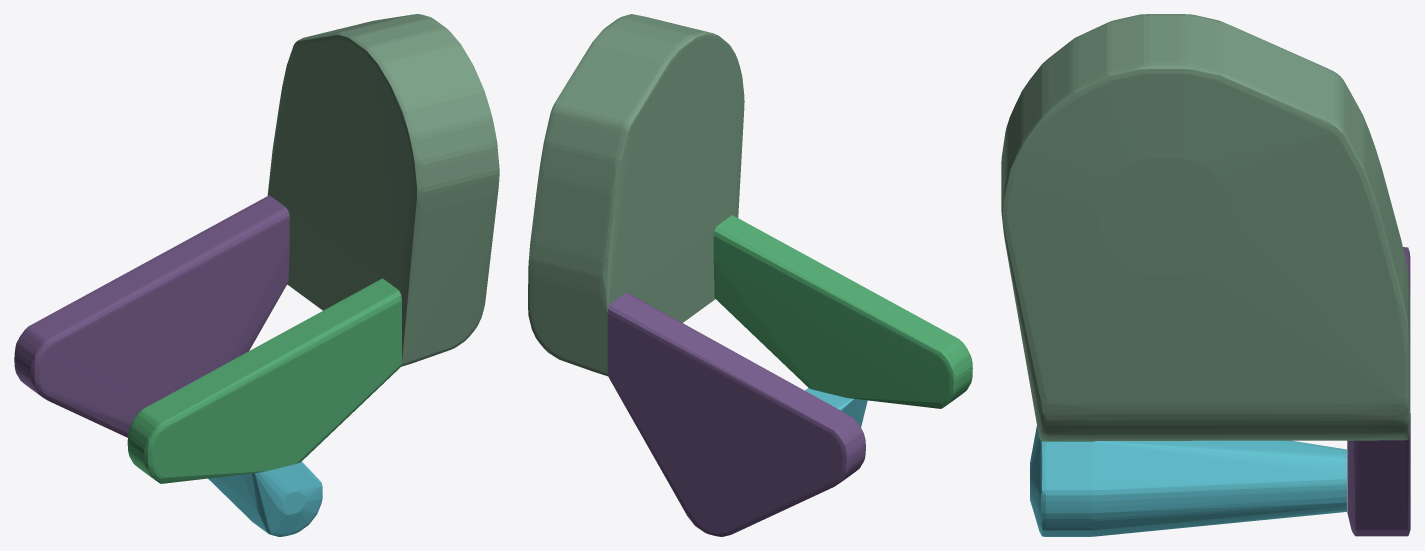
3 views of the same model, side by side, from view 1: azimuth 30°, elevation 25°; view 2: azimuth 150°, elevation 25°; view 3: azimuth 270°, elevation 25° (orthographic). The views are drawn at different scales.
Visible parts, largest first — view 1: geometry_0, geometry_1, geometry_3, geometry_2; view 2: geometry_0, geometry_1, geometry_3, geometry_2; view 3: geometry_0, geometry_2, geometry_1.
Boxes of the visible parts, x1=… form: geometry_0: x1=267, y1=14, x2=499, y2=366; geometry_1: x1=14, y1=195, x2=289, y2=437; geometry_3: x1=127, y1=278, x2=401, y2=483; geometry_2: x1=208, y1=461, x2=322, y2=536; geometry_0: x1=528, y1=14, x2=744, y2=376; geometry_1: x1=607, y1=292, x2=865, y2=536; geometry_3: x1=713, y1=215, x2=972, y2=408; geometry_2: x1=805, y1=388, x2=867, y2=426; geometry_0: x1=1001, y1=14, x2=1410, y2=440; geometry_2: x1=1030, y1=426, x2=1346, y2=536; geometry_1: x1=1347, y1=247, x2=1410, y2=536.
Bounding box in the file's own units: 0.0261 × 0.0314 × 0.0195.
